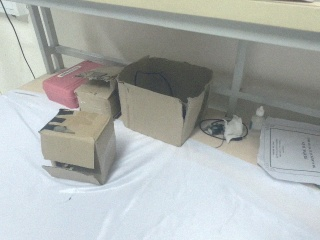box: (117, 56, 214, 148), (39, 108, 117, 185), (38, 59, 98, 108), (75, 67, 121, 115)
